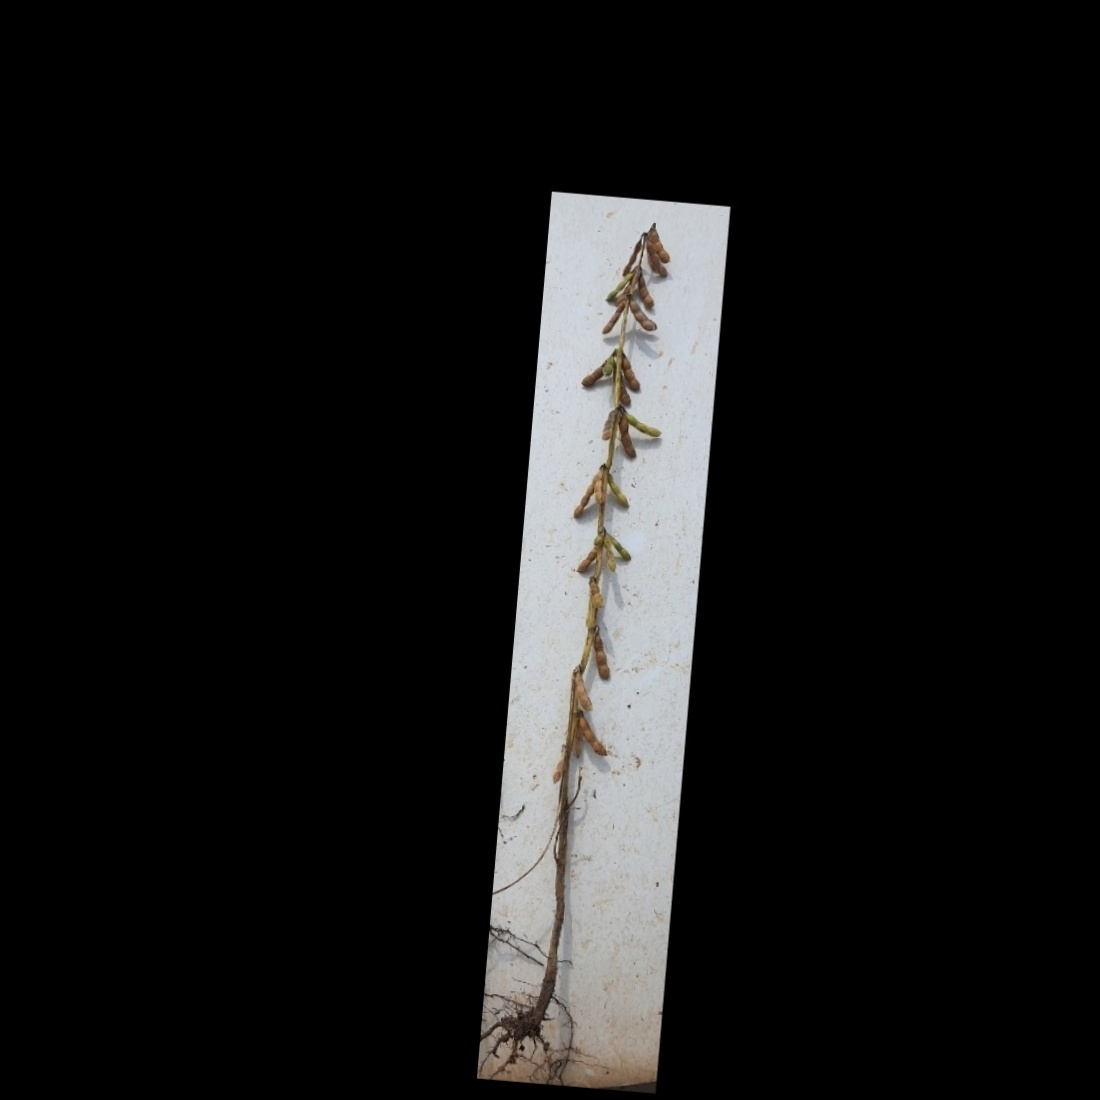pod: (576, 717, 612, 760), (624, 299, 663, 334), (618, 407, 664, 437), (618, 350, 650, 392), (590, 630, 614, 683), (612, 416, 640, 462), (571, 475, 596, 523), (571, 668, 597, 713), (603, 469, 633, 510), (598, 303, 626, 340), (634, 269, 658, 309), (622, 235, 644, 278), (605, 270, 631, 302), (574, 542, 598, 575), (597, 538, 618, 573), (548, 757, 566, 787)
soy: (496, 213, 706, 1072)
